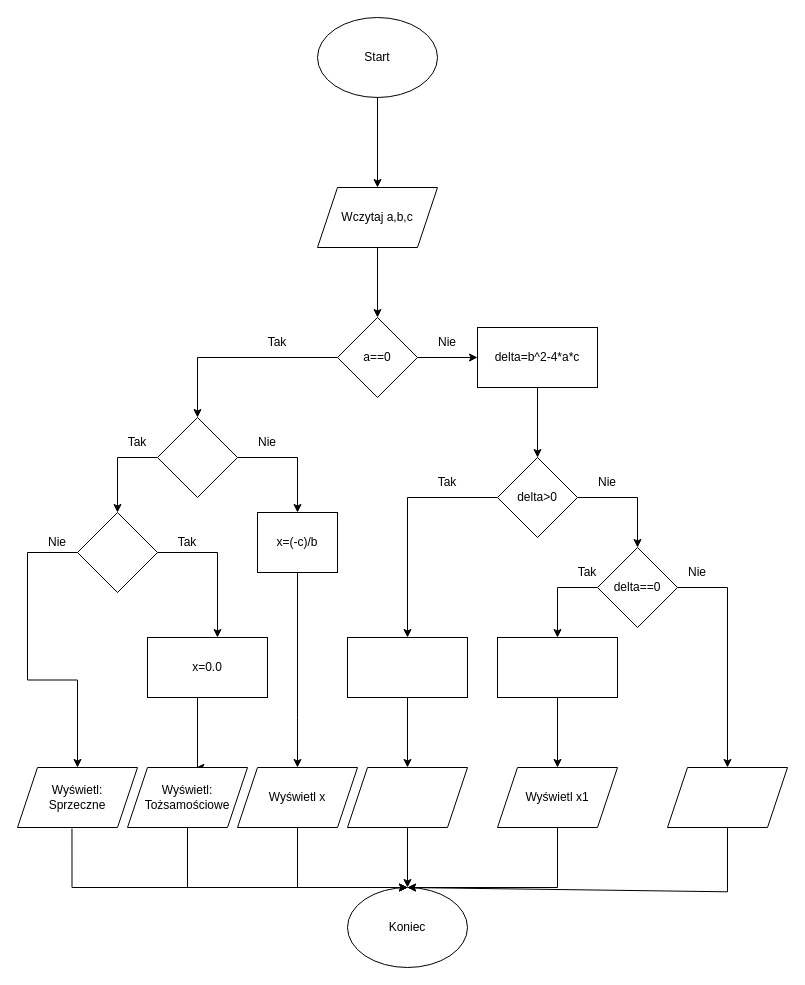
Image size: 805x985. Some labels were removed from this diagram. Here are the shapes that lost their labels. From the top down, the centre of each, then its label:
At [197,457]: "b!=0".
At [117,552]: "c==0".
At [407,667]: "p_delty=sqrt(delta) x1=(-b-p_delty)/(2*a) x2=(-b+p_delty)/(2*a)".
At [557,667]: "x1=(-b)/(2*a)".
At [407,797]: "Wyświetl x1, x2".
At [727,797]: "Wyświetl: Brak rozwiązań".
